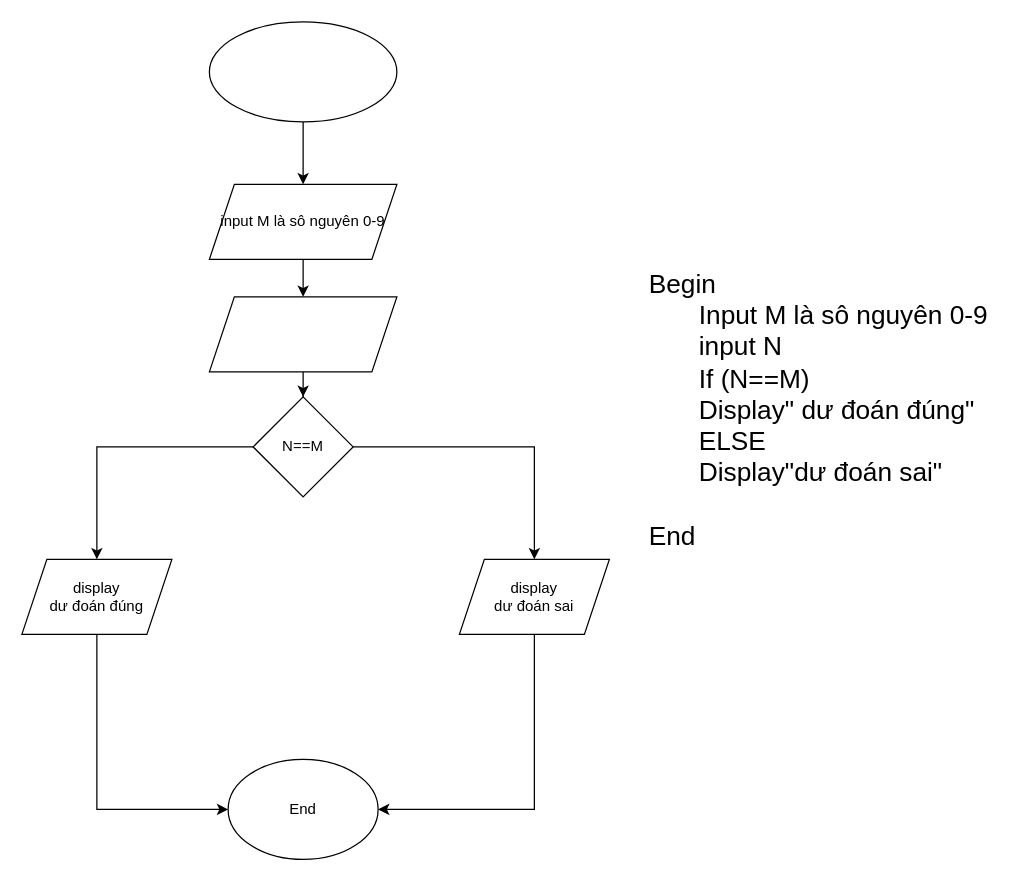
Image size: 1019x881. Some labels were removed from this diagram. Here are the shapes that lost their labels. From the top down, the centre of each, then its label:
(x=302, y=71): Begin
(x=302, y=334): input N
